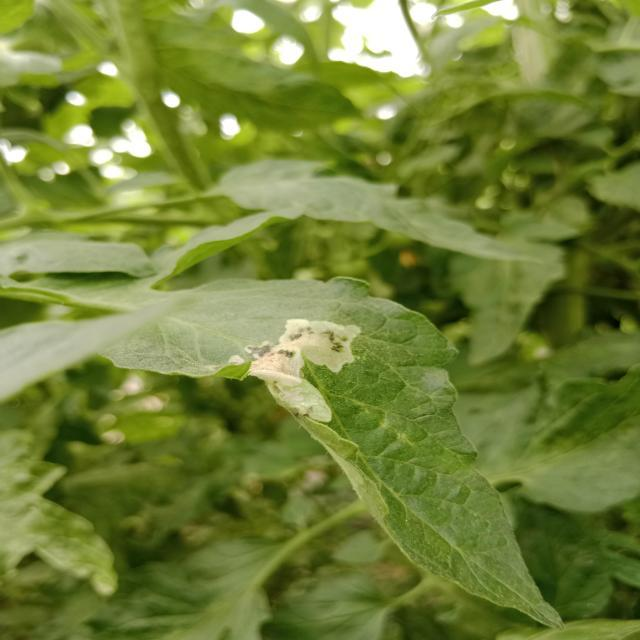Tuta absoluta: (233, 303, 361, 426)
